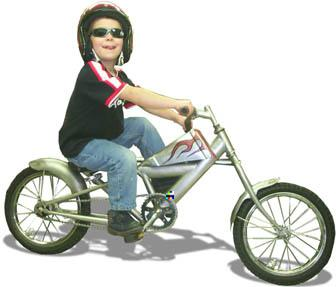car: (5, 104, 336, 287)
person: (57, 1, 196, 237)
